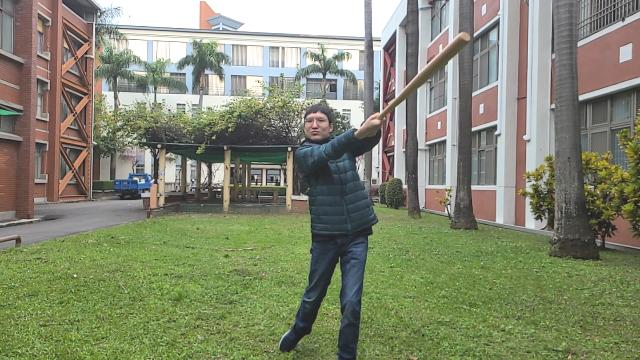bat: (378, 32, 470, 120)
